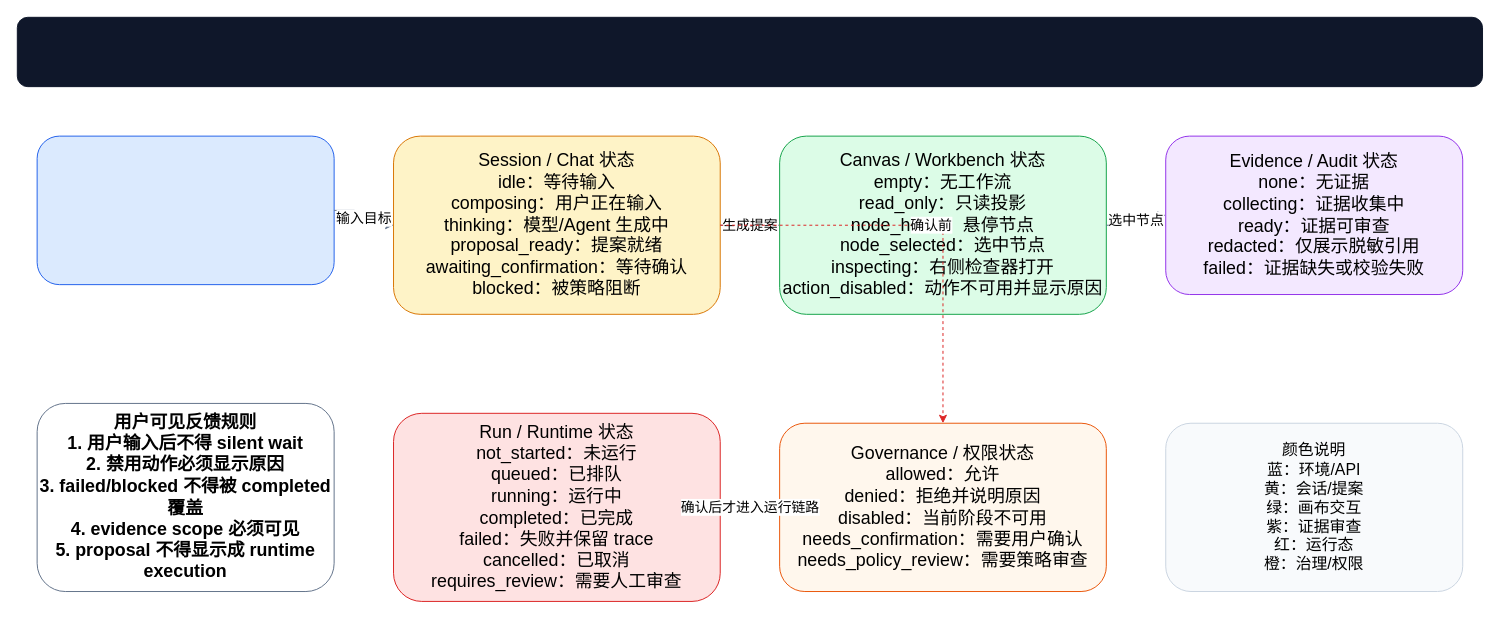
This 1500x619 diagram has some shape labels left out. Each missing label, with the box of its shape:
API / 环境状态 healthy：API 健康 degraded：部分服务降级 offline：API 不可用 misconfigured：前后端配置不一致: (36, 135, 334, 285)
V12 用户态状态机：用户在产品工作台会看到哪些状态: (16, 16, 1483, 87)
